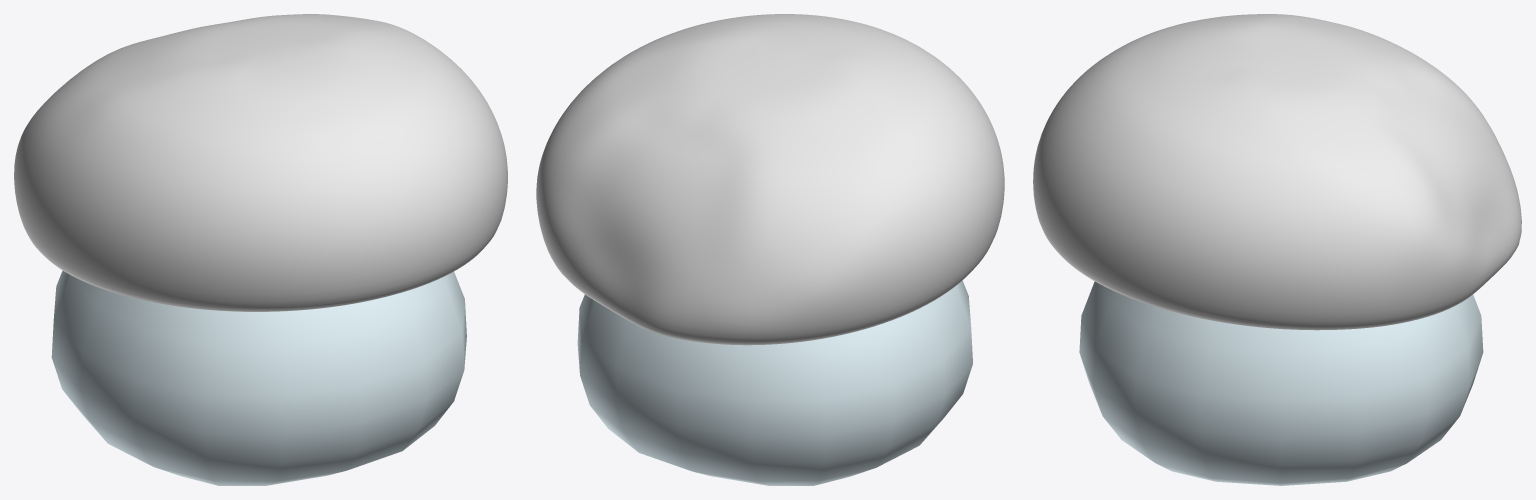
File: Pilz_02.fbx
3 renders of one model, left to right at view 1: azimuth 30°, elevation 25°; view 2: azimuth 150°, elevation 25°; view 3: azimuth 270°, elevation 25°, orthographic. The views are drawn at different scales.
Visible parts, largest first — view 1: Cube; view 2: Cube; view 3: Cube.
Boxes of the visible parts, x1,y1,x2,y2 form: Cube: (14,14,507,485); Cube: (536,14,1004,485); Cube: (1033,14,1521,485).
Bounding box in the file's own units: 116 × 103 × 119.
